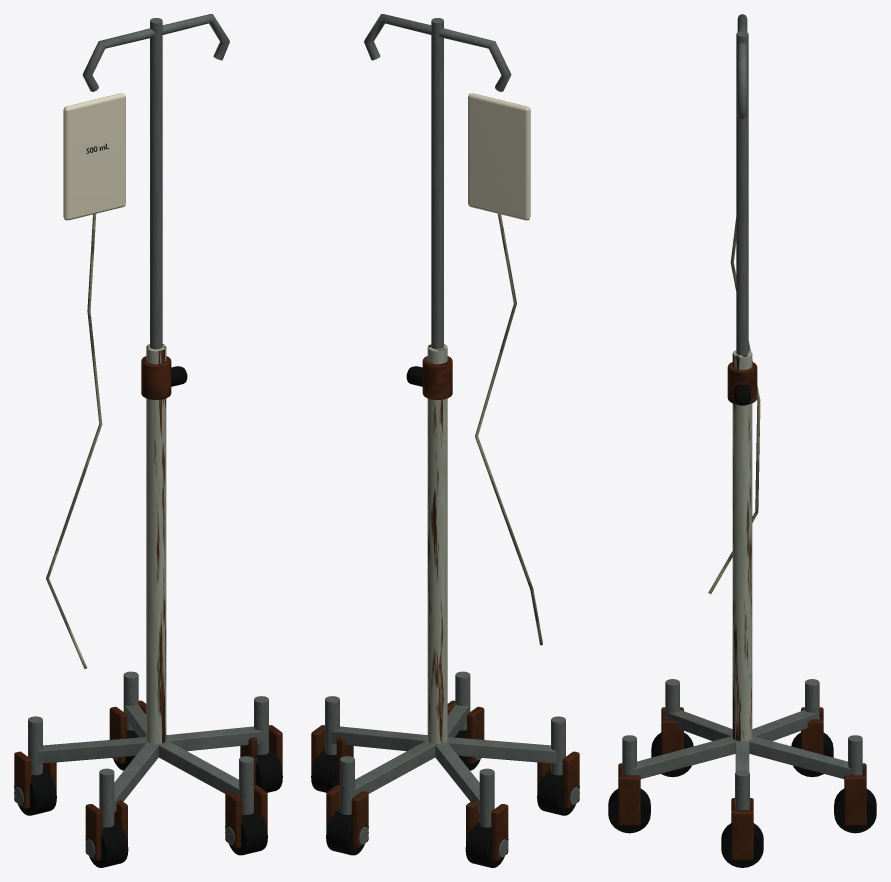
File: iv_stand.glb
3 renders of one model, left to right at view 1: azimuth 30°, elevation 25°; view 2: azimuth 150°, elevation 25°; view 3: azimuth 270°, elevation 25°, orthographic. The views are drawn at different scales.
Visible parts, largest first — view 1: IV lower tube, Empty collapsed IV bag, IV telescopic pole, IV star base arm.002, Dangling IV tube, IV star base arm.004, IV star base arm, IV star base arm.003, Pole adjustment collar, Caster tyre.003, Caster tyre.002, Caster tyre.004 (+13 smaller); view 2: IV lower tube, Empty collapsed IV bag, IV telescopic pole, IV star base arm.003, Dangling IV tube, IV star base arm.001, IV star base arm, IV star base arm.002, Pole adjustment collar, Caster tyre.002, Caster tyre.003, Caster tyre.001 (+13 smaller); view 3: IV lower tube, IV telescopic pole, IV star base arm.001, IV star base arm.004, Rusted caster fork.003, Rusted caster fork.009, Rusted caster fork.001, IV star base arm.002, IV star base arm.003, Dangling IV tube, Caster tyre.001, Caster tyre.004 (+10 smaller).
Boxes of the visible parts, x1,y1,x2,y2 form: IV lower tube: (146,344,166,743); Empty collapsed IV bag: (63,93,125,220); IV telescopic pole: (150,18,162,349); IV star base arm.002: (37,737,147,763); Dangling IV tube: (46,214,102,668); IV star base arm.004: (158,740,239,796); IV star base arm: (166,726,262,751); IV star base arm.003: (114,742,158,812); Pole adjustment collar: (141,356,171,399); Caster tyre.003: (85,822,128,867); Caster tyre.002: (14,769,56,815); Caster tyre.004: (225,809,267,855); IV lower tube: (427,344,447,743); Empty collapsed IV bag: (468,93,530,220); IV telescopic pole: (431,18,443,349); IV star base arm.003: (446,737,556,763); Dangling IV tube: (475,214,542,645); IV star base arm.001: (354,740,435,796); IV star base arm: (331,726,427,751); IV star base arm.002: (435,742,479,812); Pole adjustment collar: (422,356,452,399); Caster tyre.002: (465,822,508,867); Caster tyre.003: (537,769,579,815); Caster tyre.001: (326,809,368,855); IV lower tube: (732,350,752,741); IV telescopic pole: (736,31,748,355); IV star base arm.001: (748,736,851,778); IV star base arm.004: (633,736,736,778); Rusted caster fork.003: (844,775,866,825); Rusted caster fork.009: (618,775,640,825); Rusted caster fork.001: (731,810,753,860); IV star base arm.002: (752,710,816,741); IV star base arm.003: (668,710,732,741); Dangling IV tube: (708,217,760,593); Caster tyre.001: (834,788,876,833); Caster tyre.004: (608,788,650,833).
Size of the model in its own units: 0.619 by 2.1 by 0.6556.
7 materials, 5 textured.
